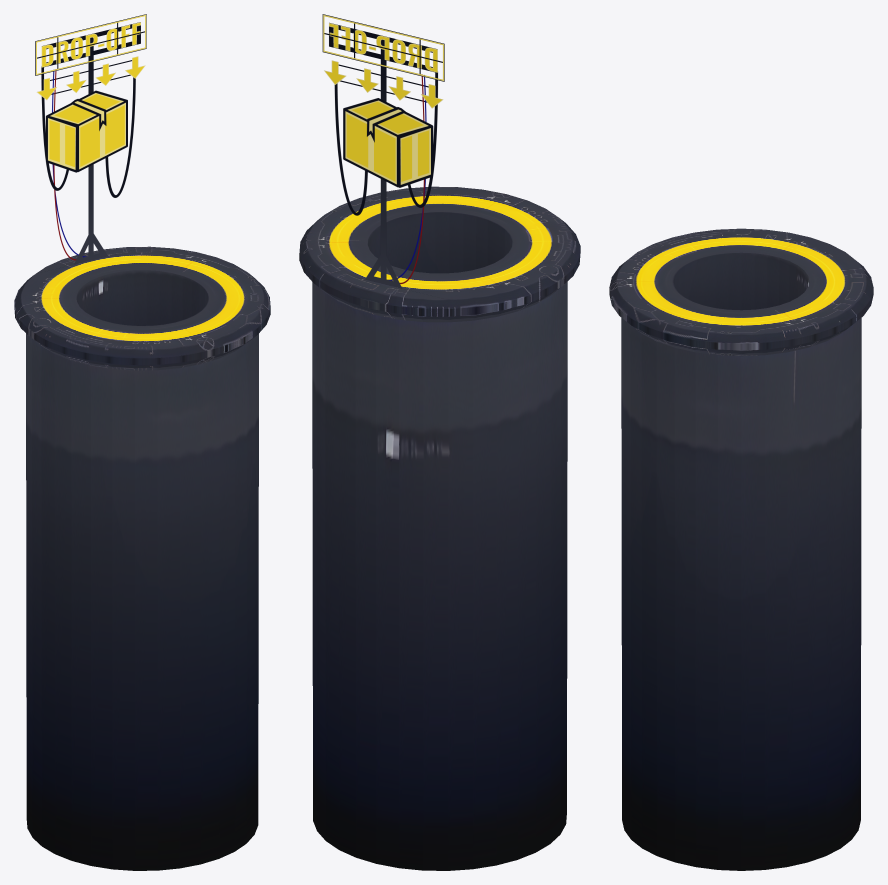
The model's file is end.glb.
The picture shows the model from 3 angles, left to right: view 1: azimuth 30°, elevation 25°; view 2: azimuth 150°, elevation 25°; view 3: azimuth 270°, elevation 25°; orthographic projection. The views are drawn at different scales.
Parts seen in each view (by area): view 1: end, Plane; view 2: end, Plane; view 3: end.
Part boxes in pixels (x1,y1,x2,y2): end: (14,246,270,870); Plane: (35,14,146,264); end: (299,186,580,870); Plane: (322,14,444,288); end: (609,228,873,870).
Size of the model in its own units: 4 by 13 by 4.
2 materials, 2 textured.
